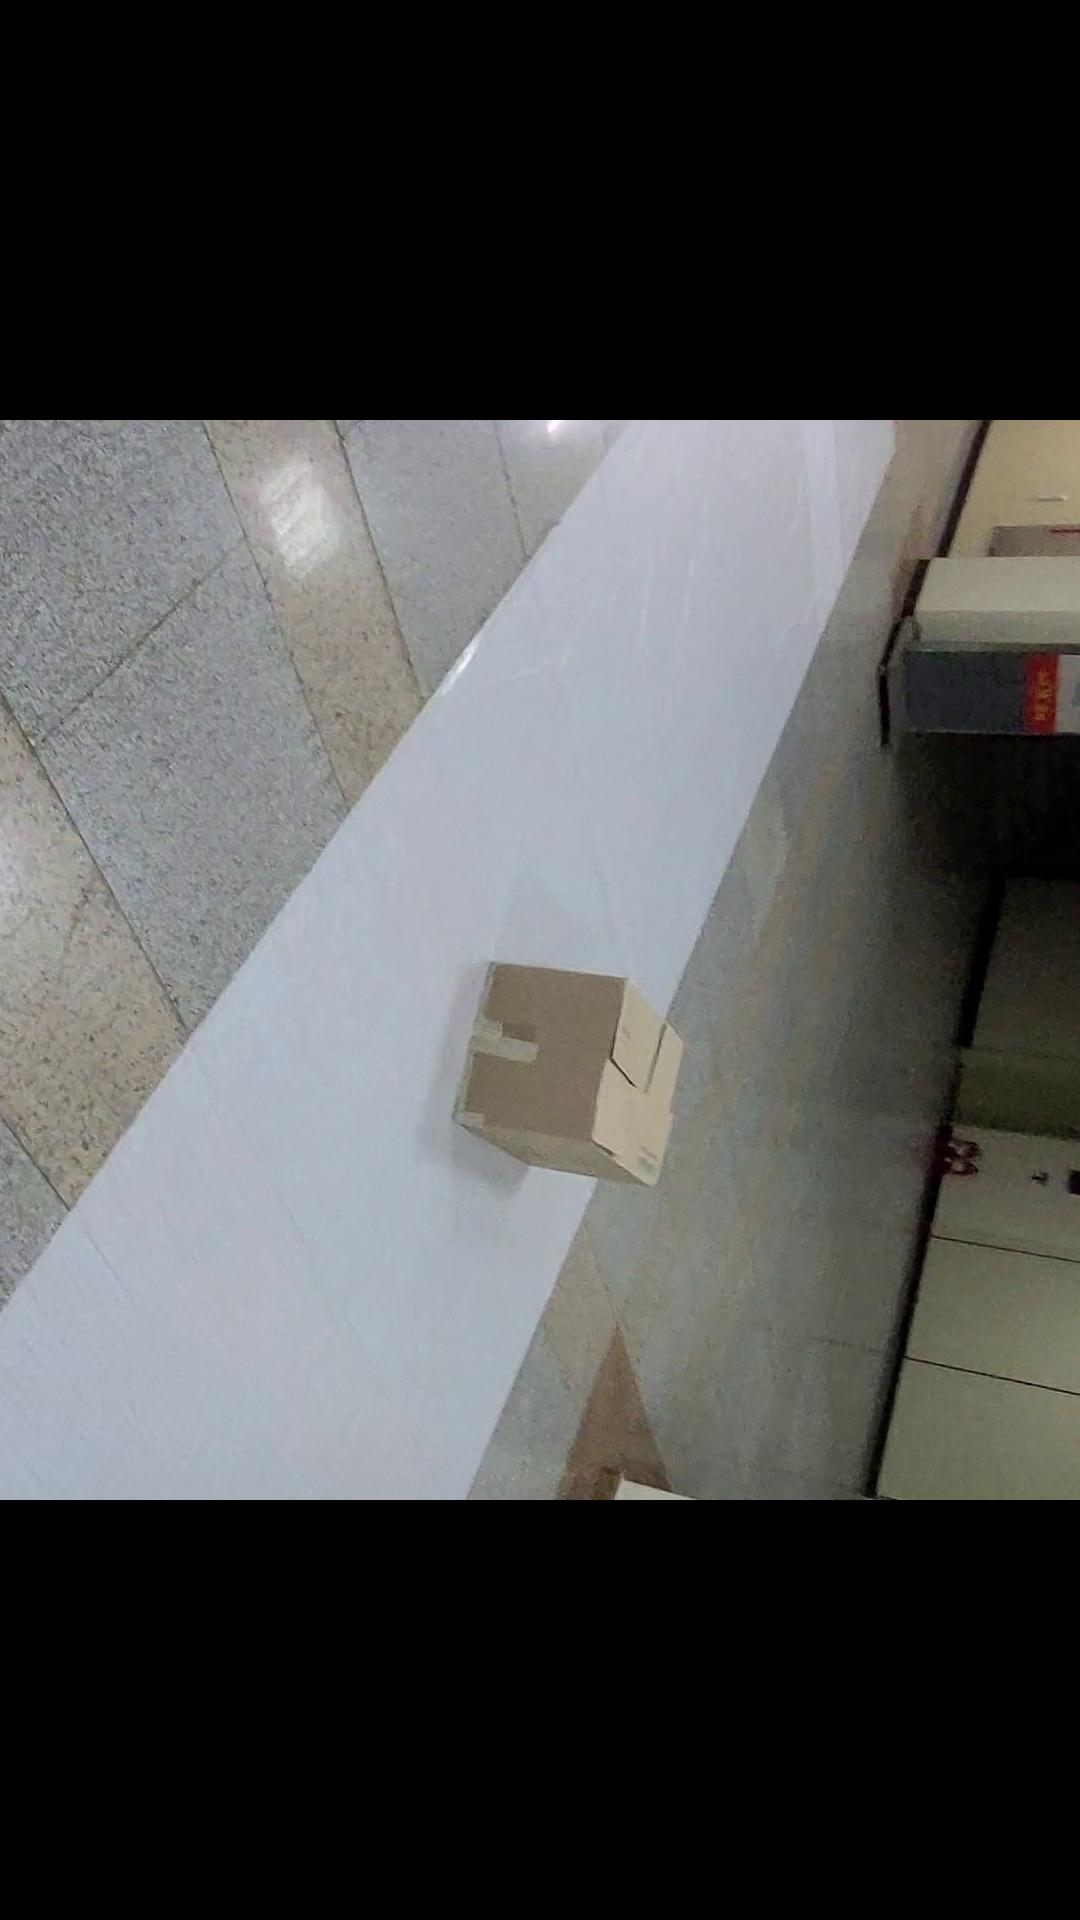Box: (440, 945, 709, 1211)
